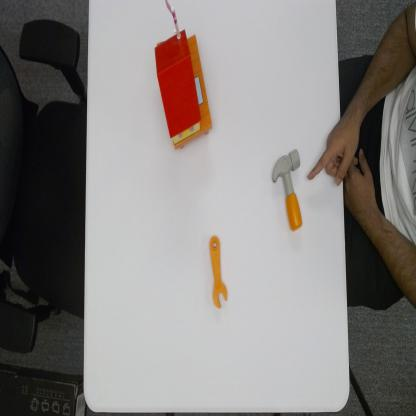Hammer: (271, 143, 306, 234)
Hand: (308, 108, 362, 190)
House: (152, 0, 212, 151)
Screwdriver: (207, 228, 230, 312)
